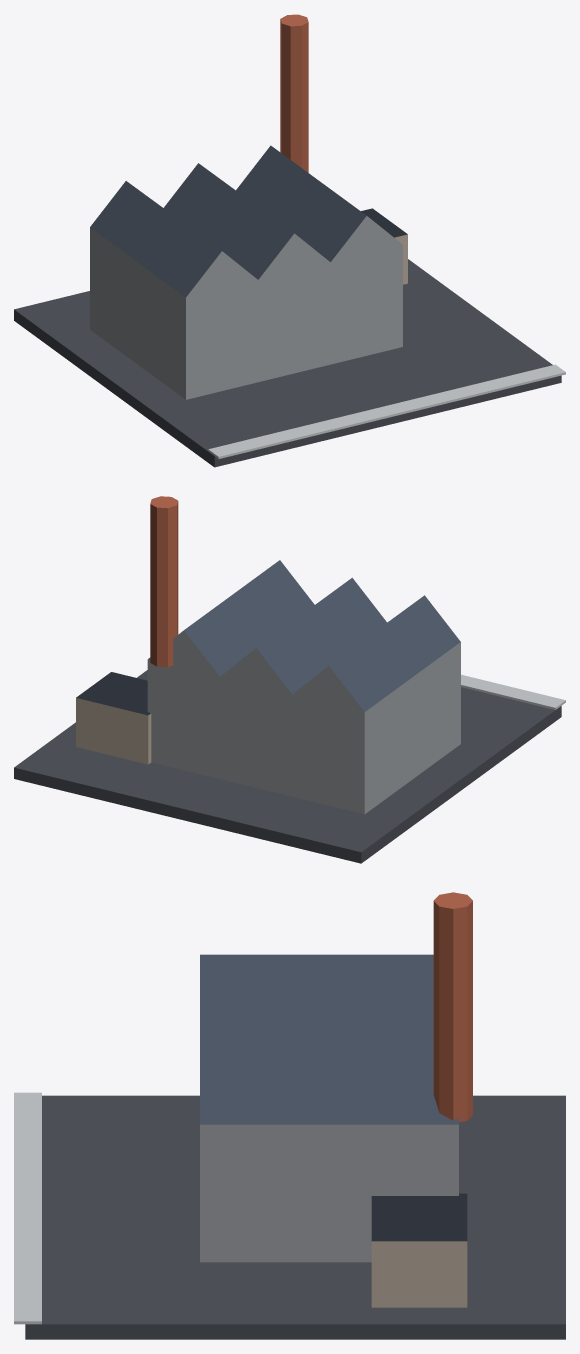
3 renders of one model, top to bottom at view 1: azimuth 30°, elevation 25°; view 2: azimuth 150°, elevation 25°; view 3: azimuth 270°, elevation 25°, orthographic. The views are drawn at different scales.
Parts seen in each view (by area): view 1: b37_v2_lod2; view 2: b37_v2_lod2; view 3: b37_v2_lod2.
Boxes of the visible parts, x1,y1,x2,y2 form: b37_v2_lod2: (14,14,565,467); b37_v2_lod2: (14,496,565,863); b37_v2_lod2: (14,892,565,1339).
Bounding box in the file's own units: 0.96 × 0.72 × 0.98.
